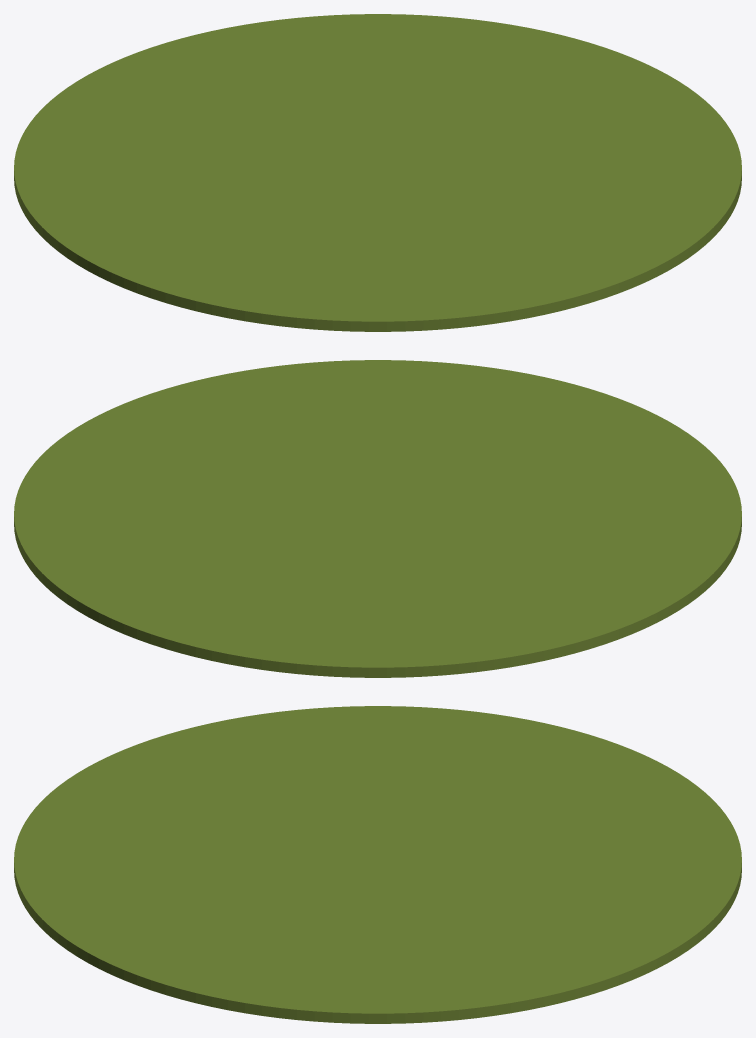
File: City Floor.glb
3 views of the same model, one above another, from view 1: azimuth 30°, elevation 25°; view 2: azimuth 150°, elevation 25°; view 3: azimuth 270°, elevation 25° (orthographic).
Parts seen in each view (by area): view 1: Cylinder; view 2: Cylinder; view 3: Cylinder.
Part boxes in pixels (box(x1,y1,x2,y2)): Cylinder: box(14, 14, 741, 331); Cylinder: box(14, 360, 741, 677); Cylinder: box(14, 706, 741, 1023).
Size of the model in its own units: 132 by 2.06 by 132.
